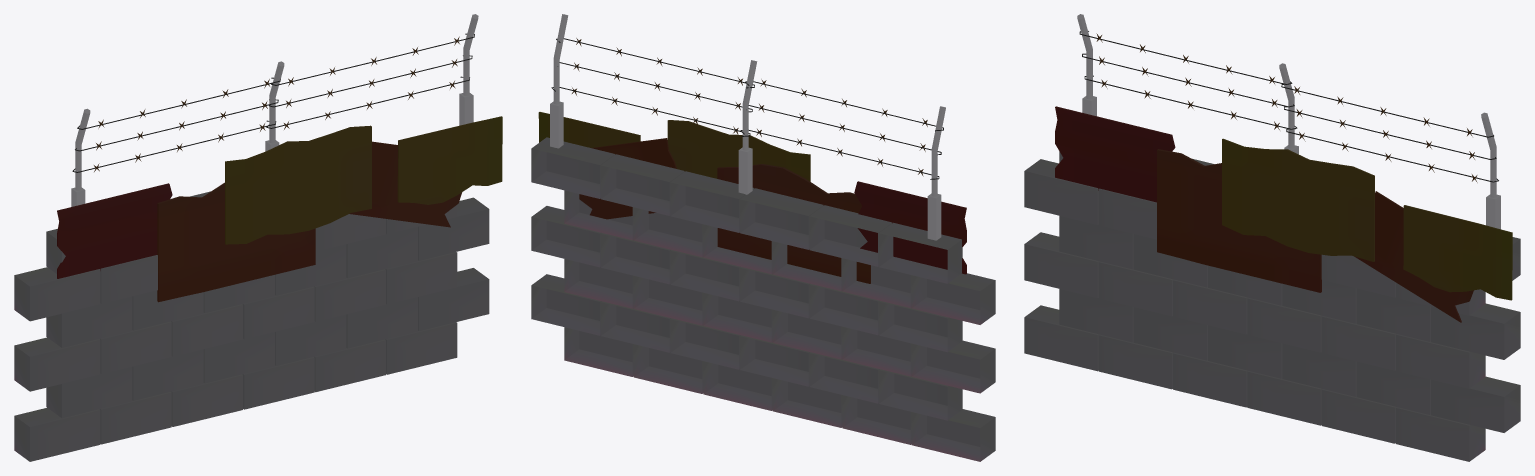
Rendered from Muro1.fbx.
The picture shows the model from 3 angles, left to right: view 1: azimuth 30°, elevation 25°; view 2: azimuth 150°, elevation 25°; view 3: azimuth 330°, elevation 25°; orthographic projection. The views are drawn at different scales.
Parts seen in each view (by area): view 1: Tijolo1, Tijolo2, MetalEnferrujado3, MetalEnferrujado2, MetalEnferrujado5, MetalEnferrujado, MetalEnferrujado4, Cerca, Fios, ArameFarpado; view 2: Tijolo2, Tijolo1, MetalEnferrujado2, MetalEnferrujado, MetalEnferrujado3, Cerca, MetalEnferrujado4, Fios, MetalEnferrujado5, ArameFarpado; view 3: Tijolo1, Tijolo2, MetalEnferrujado3, MetalEnferrujado2, MetalEnferrujado5, MetalEnferrujado, MetalEnferrujado4, Cerca, Fios, ArameFarpado.
Boxes of the visible parts, <box> form: Tijolo1: <box>14,205,457,461</box>; Tijolo2: <box>46,191,489,418</box>; MetalEnferrujado3: <box>225,125,371,244</box>; MetalEnferrujado2: <box>157,182,315,302</box>; MetalEnferrujado5: <box>397,116,502,204</box>; MetalEnferrujado: <box>57,183,172,278</box>; MetalEnferrujado4: <box>349,141,461,227</box>; Cerca: <box>71,14,478,206</box>; Fios: <box>72,33,474,172</box>; ArameFarpado: <box>94,36,459,171</box>; Tijolo2: <box>531,137,962,420</box>; Tijolo1: <box>564,190,995,461</box>; MetalEnferrujado2: <box>717,164,870,283</box>; MetalEnferrujado: <box>854,181,966,274</box>; MetalEnferrujado3: <box>667,120,810,181</box>; Cerca: <box>550,14,945,240</box>; MetalEnferrujado4: <box>579,138,676,219</box>; Fios: <box>551,38,943,179</box>; MetalEnferrujado5: <box>538,112,640,147</box>; ArameFarpado: <box>572,38,927,176</box>; Tijolo1: <box>1024,159,1485,461</box>; Tijolo2: <box>1059,151,1520,432</box>; MetalEnferrujado3: <box>1222,138,1374,261</box>; MetalEnferrujado2: <box>1157,149,1321,292</box>; MetalEnferrujado5: <box>1403,205,1512,300</box>; MetalEnferrujado: <box>1055,106,1175,202</box>; MetalEnferrujado4: <box>1354,191,1473,322</box>; Cerca: <box>1077,14,1500,229</box>; Fios: <box>1079,31,1498,182</box>; ArameFarpado: <box>1096,33,1477,182</box>.
Bounding box in the file's own units: 324 × 223 × 23.4.
